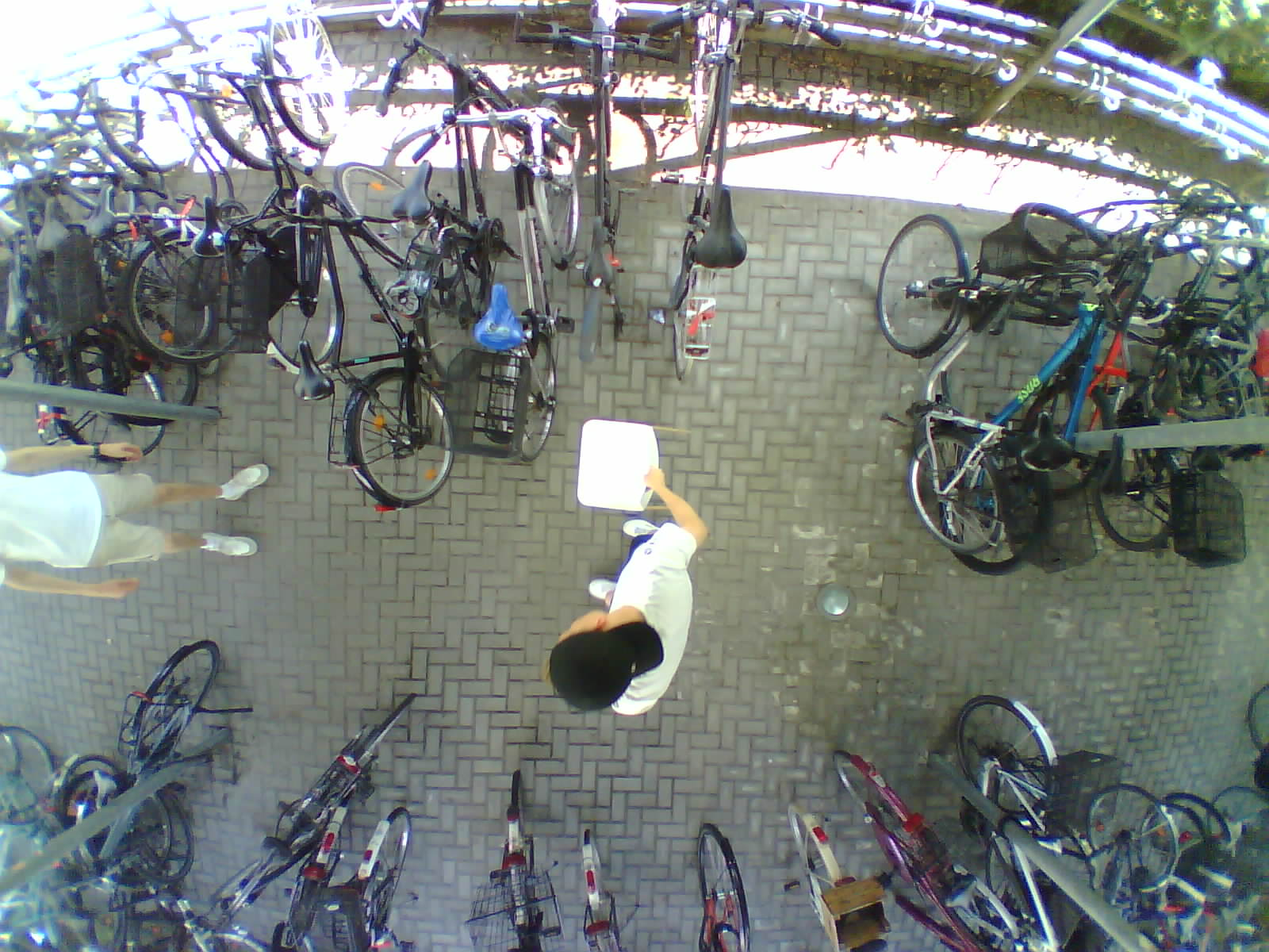bicylce: (869, 204, 1015, 571), (210, 685, 417, 921), (55, 77, 201, 410), (52, 638, 221, 914), (949, 213, 1070, 574), (325, 176, 452, 518), (21, 170, 161, 450), (658, 0, 758, 386), (128, 69, 261, 359), (482, 97, 585, 451), (1019, 202, 1145, 491), (251, 3, 347, 379), (1112, 220, 1267, 450), (831, 752, 1008, 952), (403, 49, 509, 381), (563, 0, 656, 356), (951, 696, 1079, 952), (1096, 221, 1185, 551)
saddle: (687, 182, 746, 275), (181, 189, 236, 259), (386, 157, 440, 228), (577, 215, 621, 297), (470, 283, 521, 351), (1026, 405, 1071, 479), (1100, 423, 1139, 508), (30, 195, 79, 257), (84, 179, 129, 246), (295, 336, 338, 404), (1155, 347, 1186, 414), (2, 270, 31, 333), (947, 874, 987, 919), (1086, 841, 1120, 893), (249, 836, 290, 878), (1173, 902, 1211, 941), (86, 768, 120, 810)
